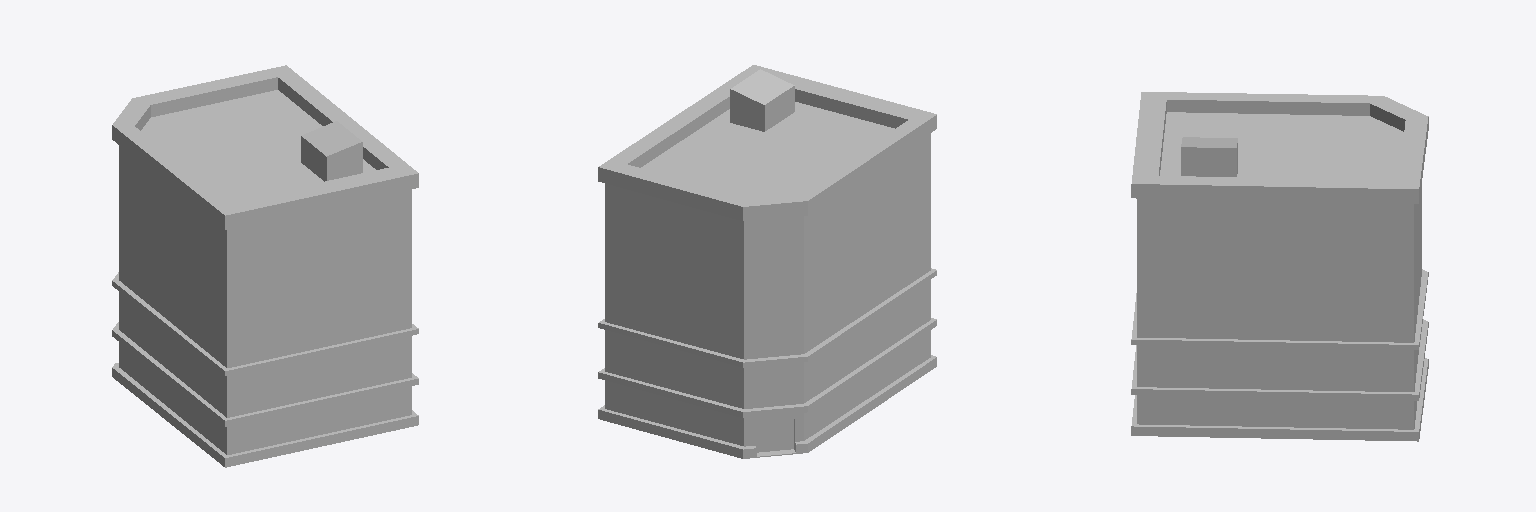
Rendered from house9.obj.
3 views of the same model, side by side, from view 1: azimuth 30°, elevation 25°; view 2: azimuth 150°, elevation 25°; view 3: azimuth 270°, elevation 25° (orthographic).
Visible parts, largest first — view 1: pasted__houseHuge_null_ group6; view 2: pasted__houseHuge_null_ group6; view 3: pasted__houseHuge_null_ group6.
Boxes of the visible parts, box(x1,y1,x2,y2) form: pasted__houseHuge_null_ group6: box(112, 65, 418, 467); pasted__houseHuge_null_ group6: box(598, 65, 936, 458); pasted__houseHuge_null_ group6: box(1131, 92, 1428, 441).
Bounding box in the file's own units: 46.28 × 60.34 × 59.43.